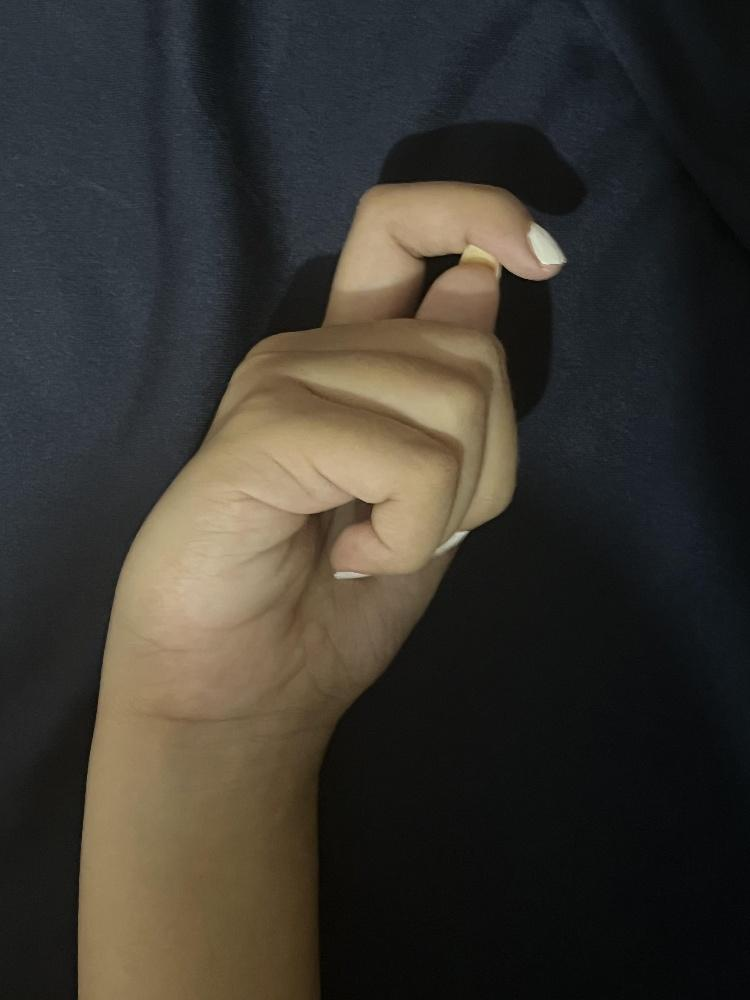t: (97, 181, 565, 715)
